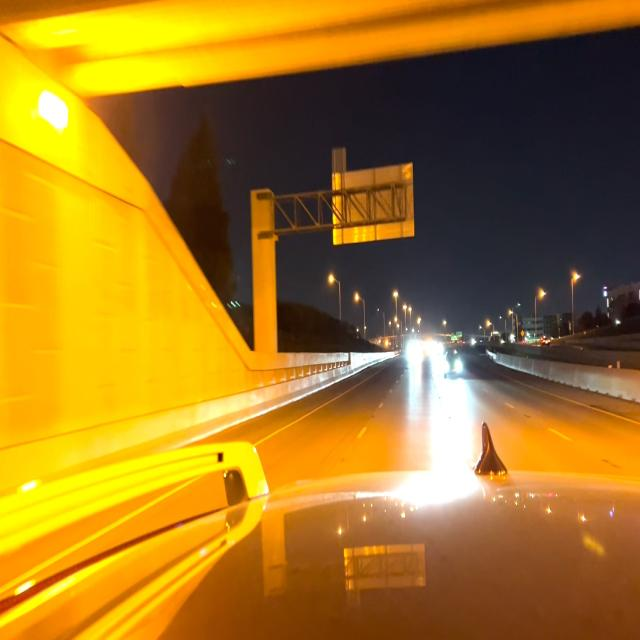back-of-sign: (334, 169, 411, 236), (332, 146, 345, 165)
